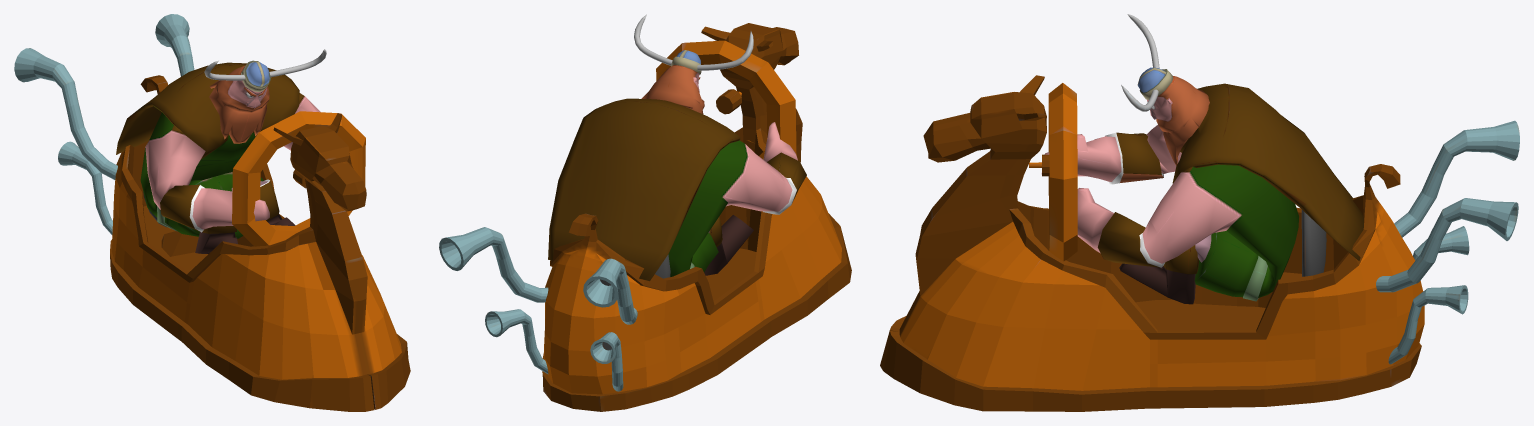
Rendered from vikingoVacile_000434.obj.
The picture shows the model from 3 angles, left to right: view 1: azimuth 30°, elevation 25°; view 2: azimuth 150°, elevation 25°; view 3: azimuth 270°, elevation 25°; orthographic projection. The views are drawn at different scales.
Visible parts, largest first — view 1: kartVikingo, Vikingo; view 2: kartVikingo, Vikingo; view 3: kartVikingo, Vikingo.
Boxes of the visible parts, x1,y1,x2,y2 form: kartVikingo: (14, 14, 410, 411); Vikingo: (116, 49, 326, 254); kartVikingo: (439, 23, 851, 411); Vikingo: (548, 14, 806, 281); kartVikingo: (880, 75, 1519, 411); Vikingo: (1041, 14, 1363, 304).
Bounding box in the file's own units: 4.14 × 5.82 × 10.31.
2 materials, 2 textured.
